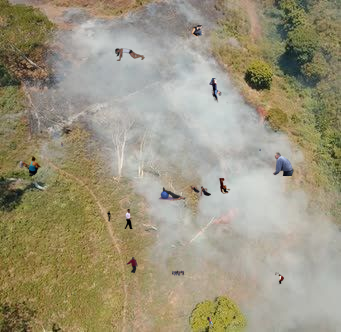Human: (209, 78, 229, 105), (107, 209, 133, 229), (273, 152, 294, 176), (126, 255, 153, 273), (19, 156, 41, 176), (158, 187, 187, 201), (115, 48, 145, 61), (219, 178, 241, 194), (190, 186, 211, 196), (191, 25, 206, 38), (275, 272, 284, 285), (207, 312, 213, 329), (172, 270, 184, 276), (32, 205, 35, 209), (71, 293, 76, 295), (61, 142, 63, 147), (259, 148, 261, 153)
